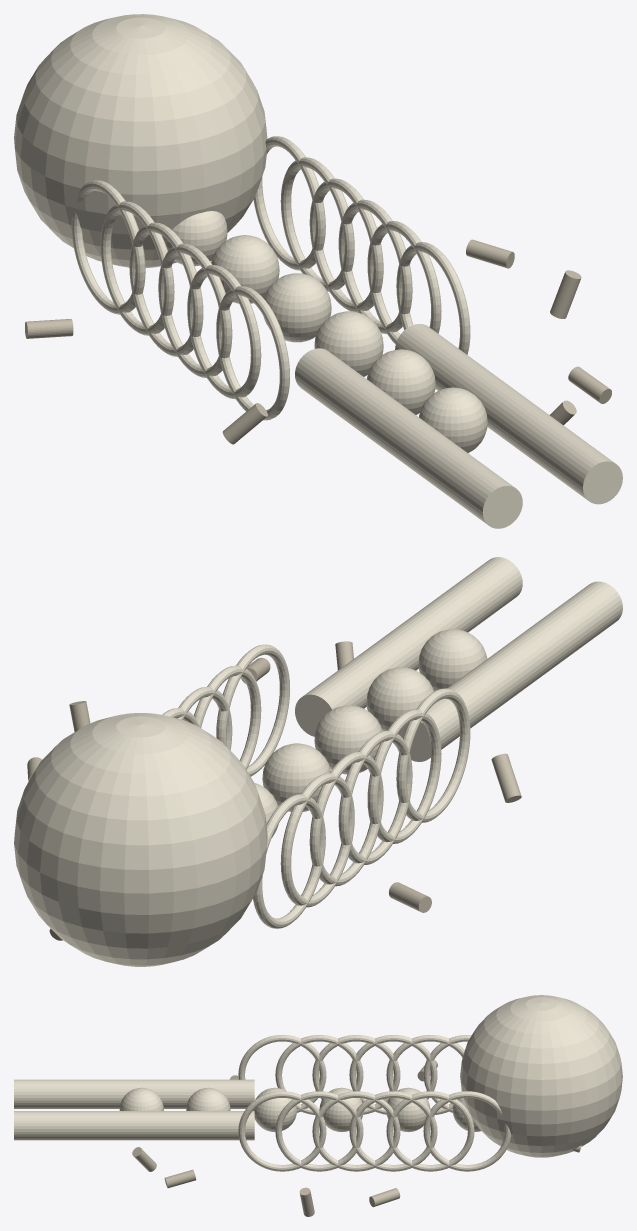
Rendered from SkeletonRemains.fbx.
The picture shows the model from 3 angles, top to bottom: view 1: azimuth 30°, elevation 25°; view 2: azimuth 150°, elevation 25°; view 3: azimuth 270°, elevation 25°; orthographic projection. The views are drawn at different scales.
Visible parts, largest first — view 1: SkeletonRemains; view 2: SkeletonRemains; view 3: SkeletonRemains.
Part boxes in pixels (left/top/right/bottom): SkeletonRemains: left=14, top=14, right=622, bottom=528; SkeletonRemains: left=14, top=557, right=622, bottom=966; SkeletonRemains: left=14, top=995, right=622, bottom=1216.
Size of the model in its own units: 91.26 by 44 by 164.
